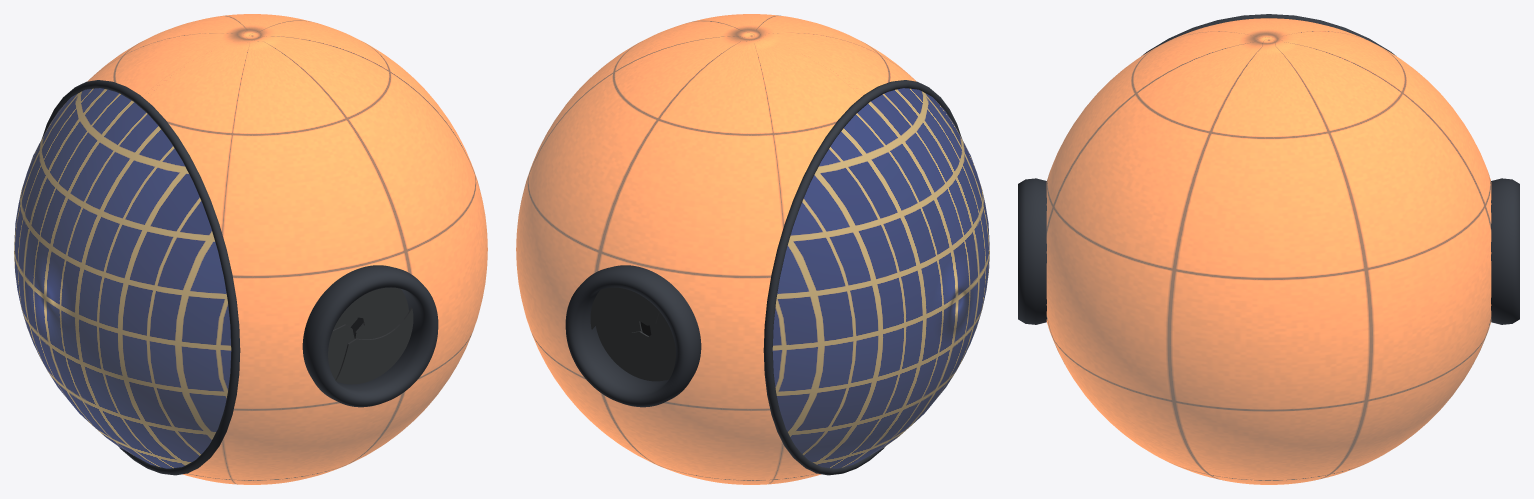
Rendered from collector.glb.
3 renders of one model, left to right at view 1: azimuth 30°, elevation 25°; view 2: azimuth 150°, elevation 25°; view 3: azimuth 270°, elevation 25°, orthographic.
Parts seen in each view (by area): view 1: CollectorBody, CollectorSolar, CollectorStarboardCuff, CollectorSolarBezel, CollectorStarboardIris.005, CollectorStarboardIris.001, CollectorStarboardIris.004, CollectorStarboardIris.000; view 2: CollectorBody, CollectorSolar, CollectorPortCuff, CollectorSolarBezel, CollectorPortIris.005, CollectorPortIris.001, CollectorPortIris.002, CollectorPortIris.003; view 3: CollectorBody, CollectorPortCuff, CollectorStarboardCuff, CollectorSolarBezel.
Part boxes in pixels (bbox=[...]): CollectorBody: bbox=[87, 14, 487, 484]; CollectorSolar: bbox=[14, 88, 231, 468]; CollectorStarboardCuff: bbox=[302, 265, 438, 407]; CollectorSolarBezel: bbox=[42, 80, 240, 475]; CollectorStarboardIris.005: bbox=[335, 307, 413, 384]; CollectorStarboardIris.001: bbox=[362, 287, 408, 329]; CollectorStarboardIris.004: bbox=[328, 324, 354, 379]; CollectorStarboardIris.000: bbox=[354, 316, 405, 339]; CollectorBody: bbox=[516, 14, 916, 484]; CollectorSolar: bbox=[772, 88, 989, 468]; CollectorPortCuff: bbox=[565, 265, 701, 407]; CollectorSolarBezel: bbox=[763, 80, 961, 475]; CollectorPortIris.005: bbox=[590, 287, 659, 329]; CollectorPortIris.001: bbox=[595, 315, 642, 364]; CollectorPortIris.002: bbox=[617, 331, 666, 381]; CollectorPortIris.003: bbox=[645, 335, 675, 380]; CollectorBody: bbox=[1046, 18, 1491, 484]; CollectorPortCuff: bbox=[1491, 178, 1519, 324]; CollectorStarboardCuff: bbox=[1018, 178, 1046, 324]; CollectorSolarBezel: bbox=[1142, 14, 1395, 55].
Bounding box in the file's own units: 2.01 × 2 × 2.15.
Materials: 5 (2 with a texture image).
